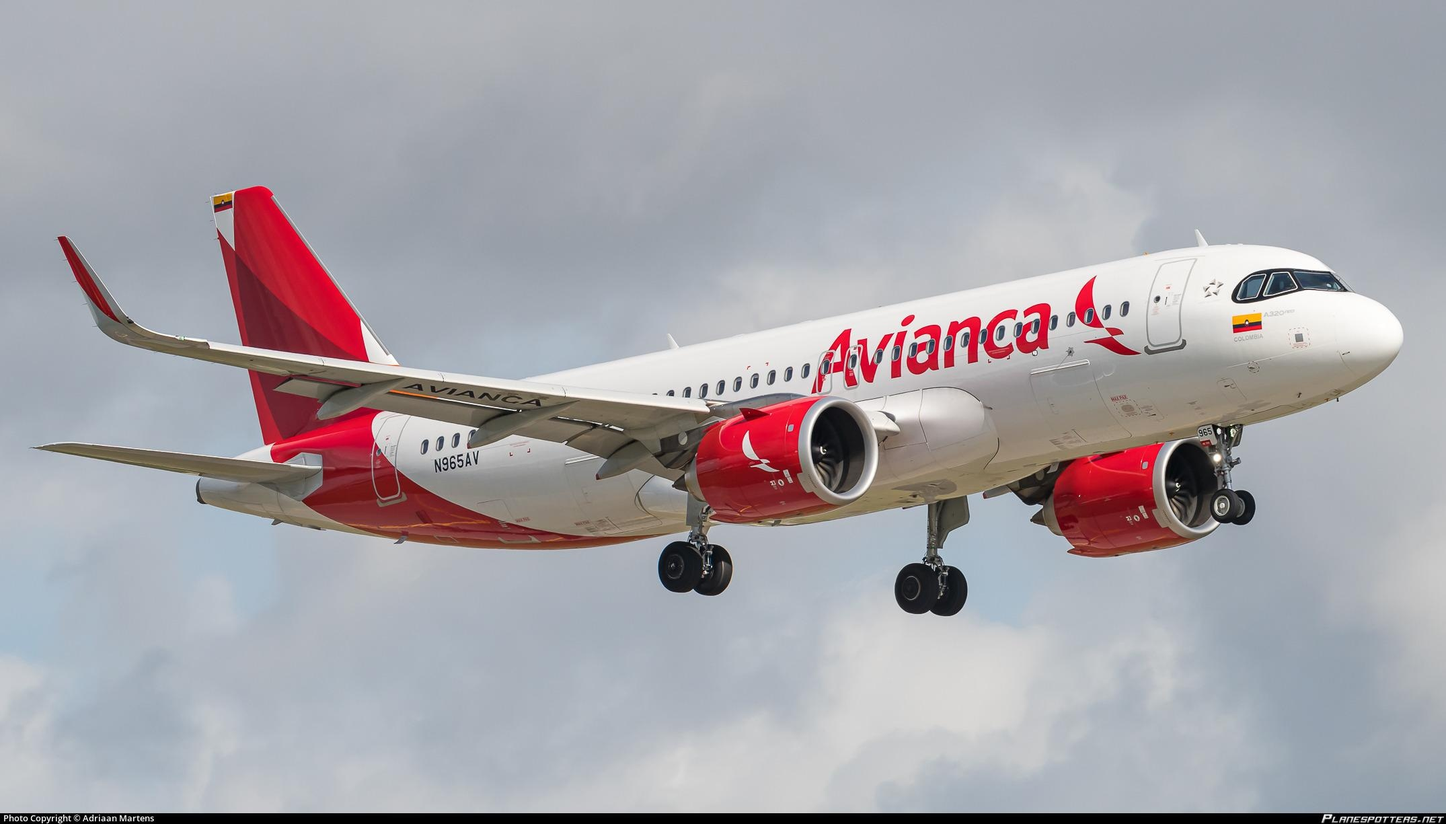aircraft: (38, 185, 1396, 616)
